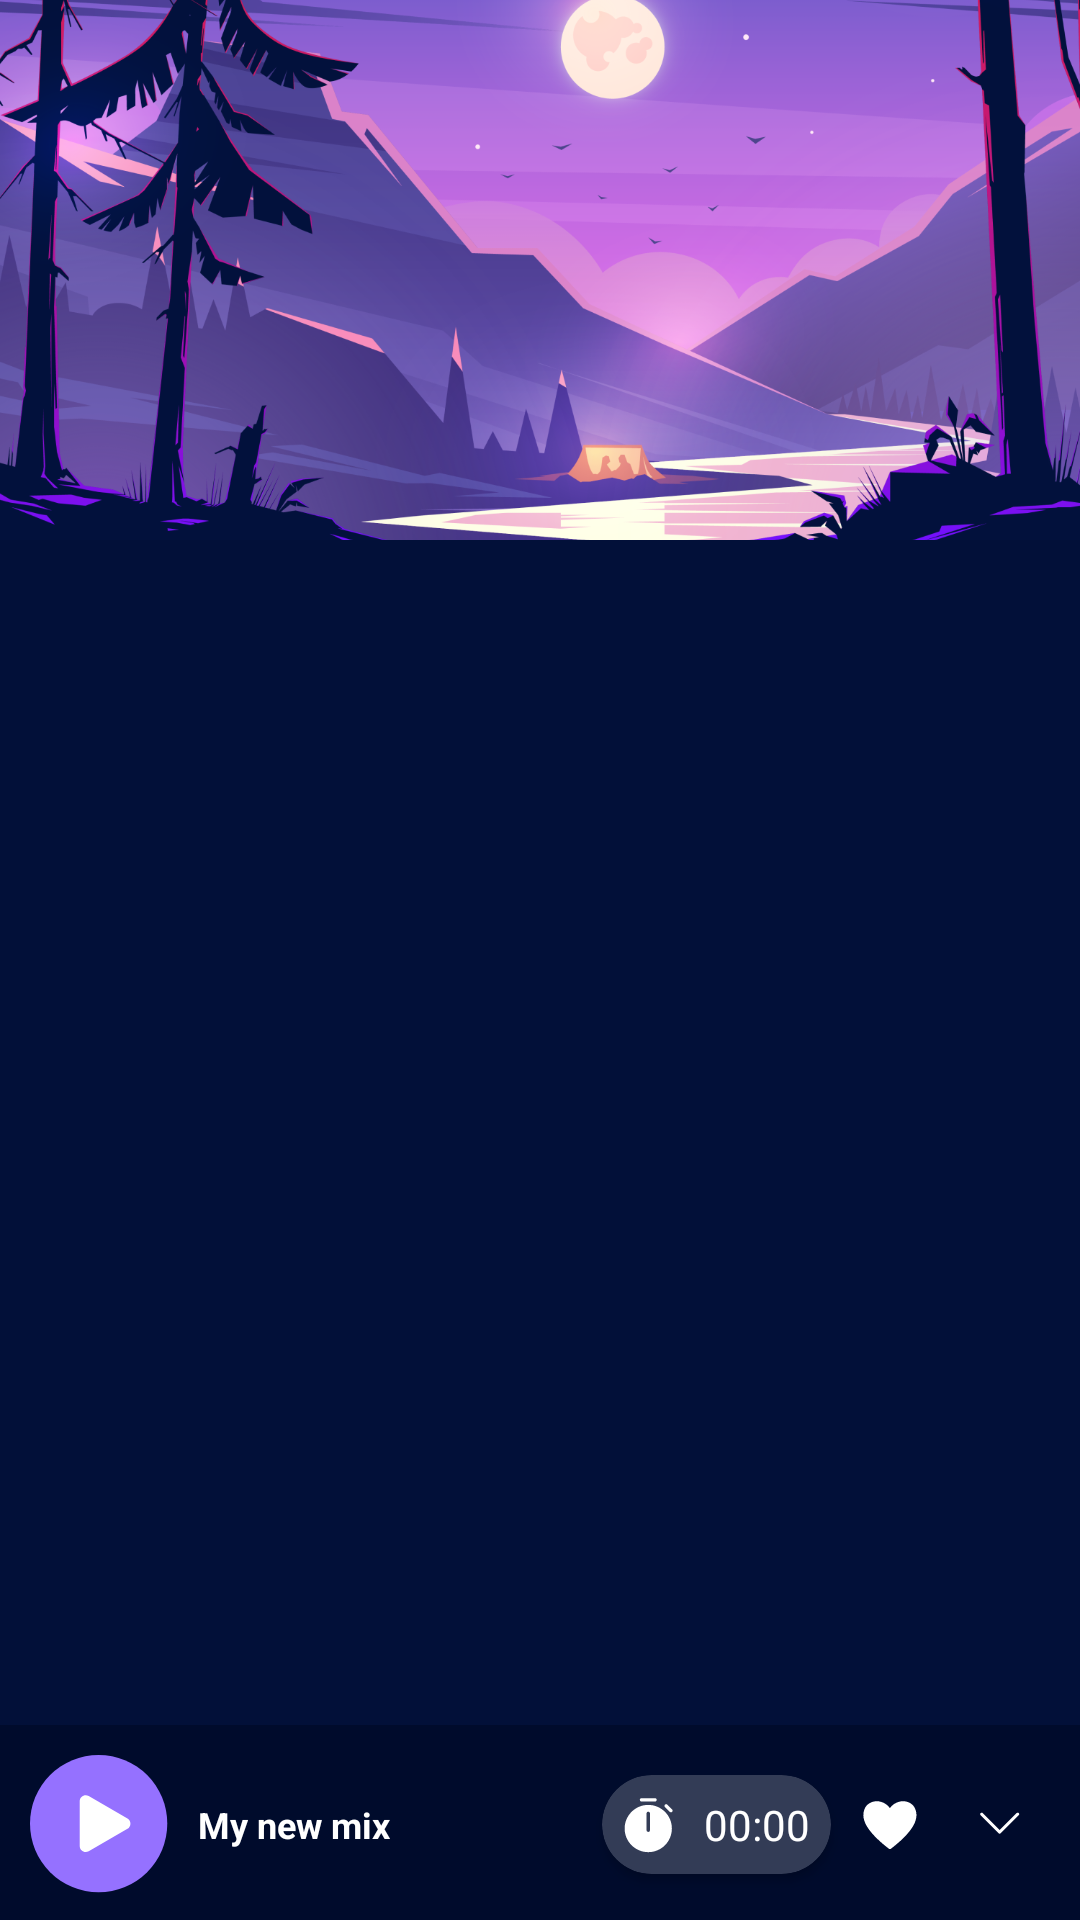

Point at icon controls on the screen. Image size 1080px×1920px, points as (x,y).
clock timer: (648,1825)
extend: (1000,1823)
favorite: (890,1825)
play: (99,1824)
